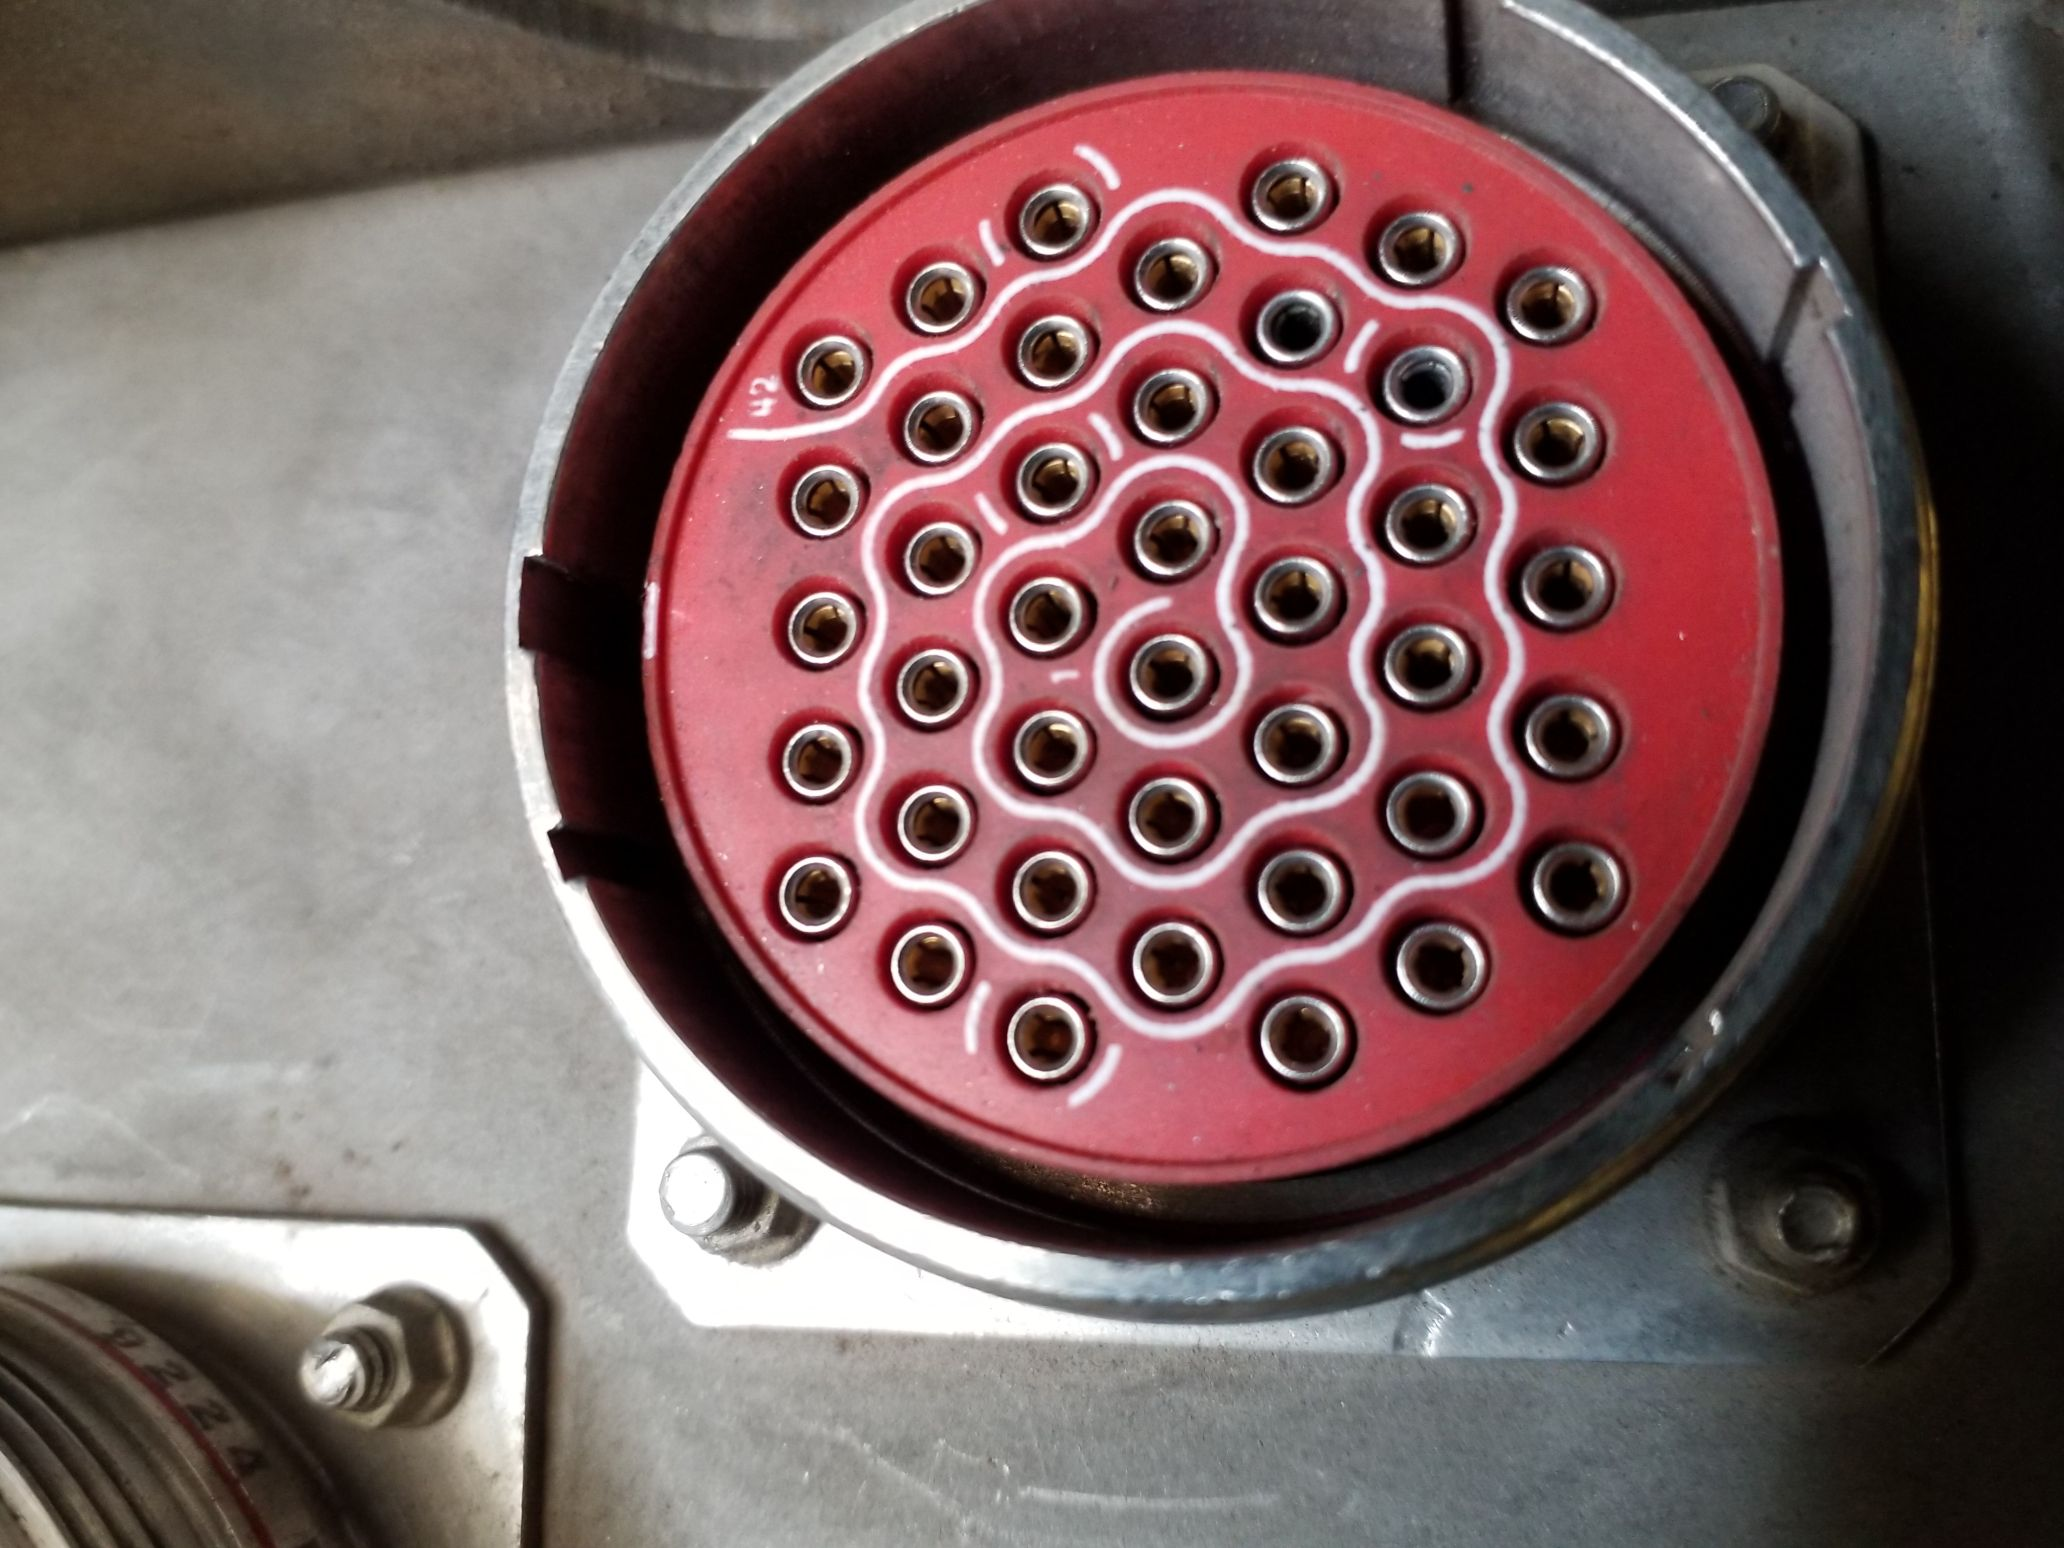inletround: (505, 3, 1923, 1319)
